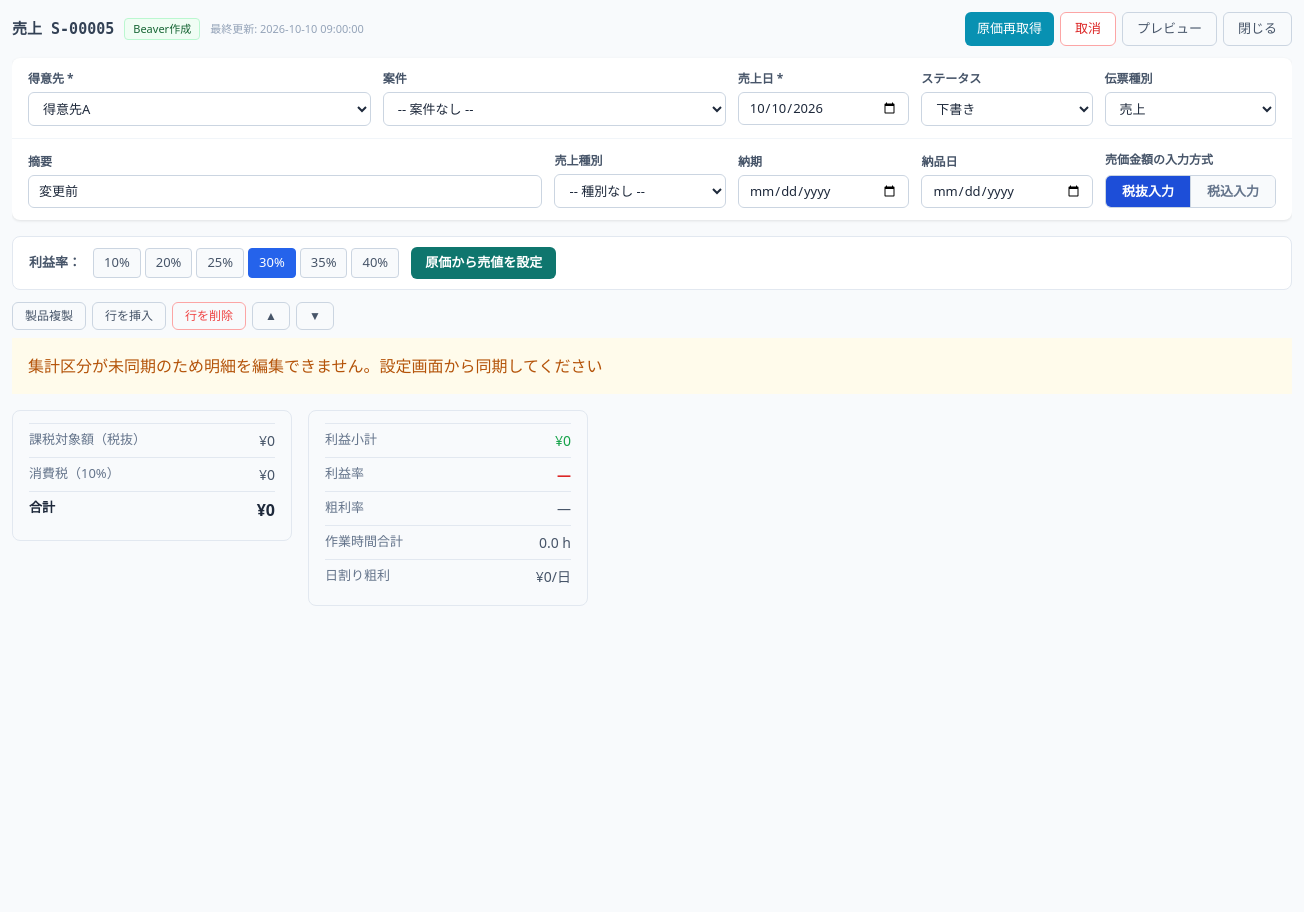
Test: R-0168 離脱前に保存結果を待つ › 離脱前保存が500なら保存失敗を表示し、確認も移動もしない
Expected: the date field showing "2026-10-10" below "売上日 *" is shown, [738,92,909,125]
Step 1. Replace the text in the field named "description" with "入力中の摘要" → (285, 191), box [28,174,542,208]
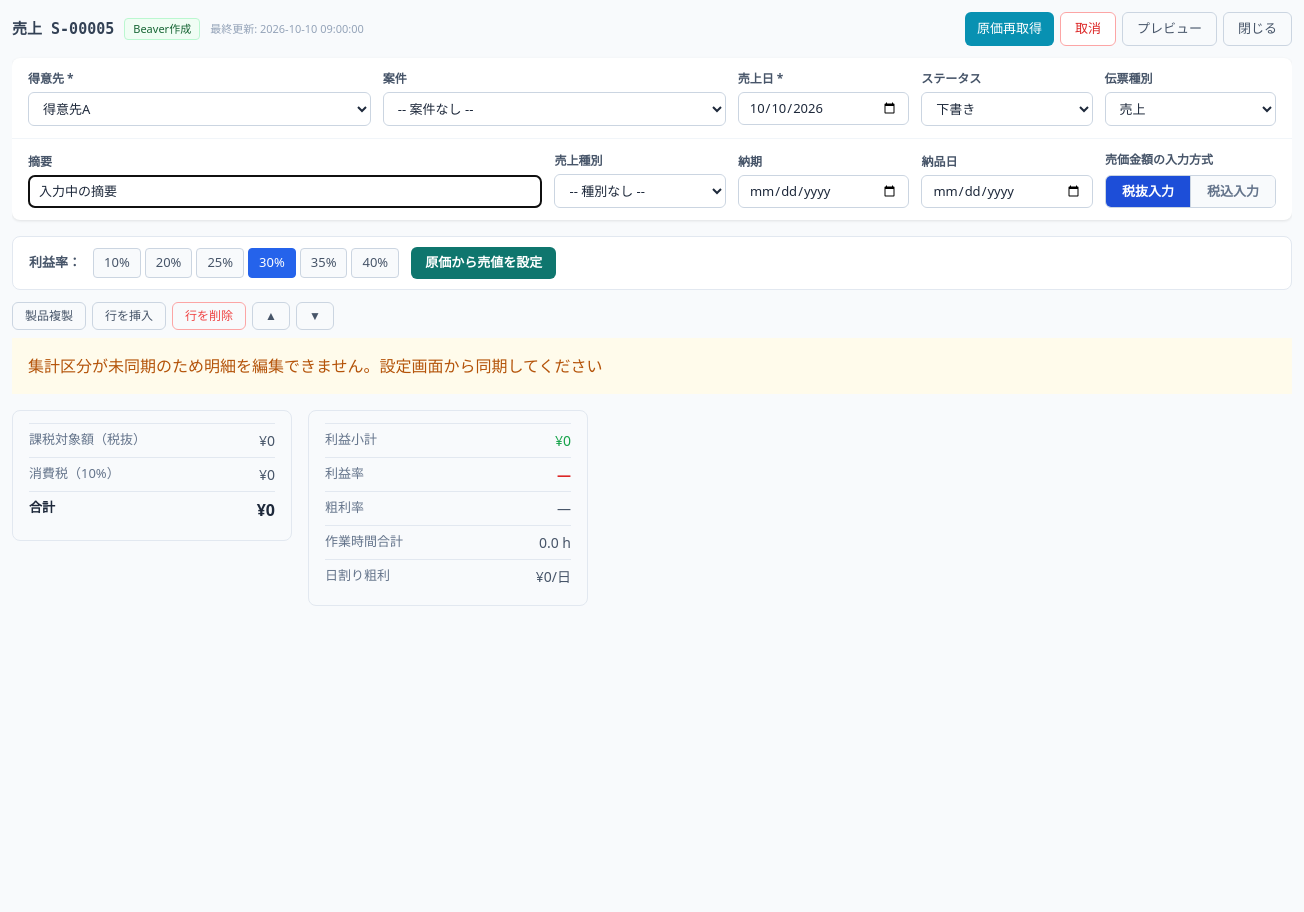
Step 2. Click the button "閉じる" → (1258, 29), box [1223,12,1292,46]
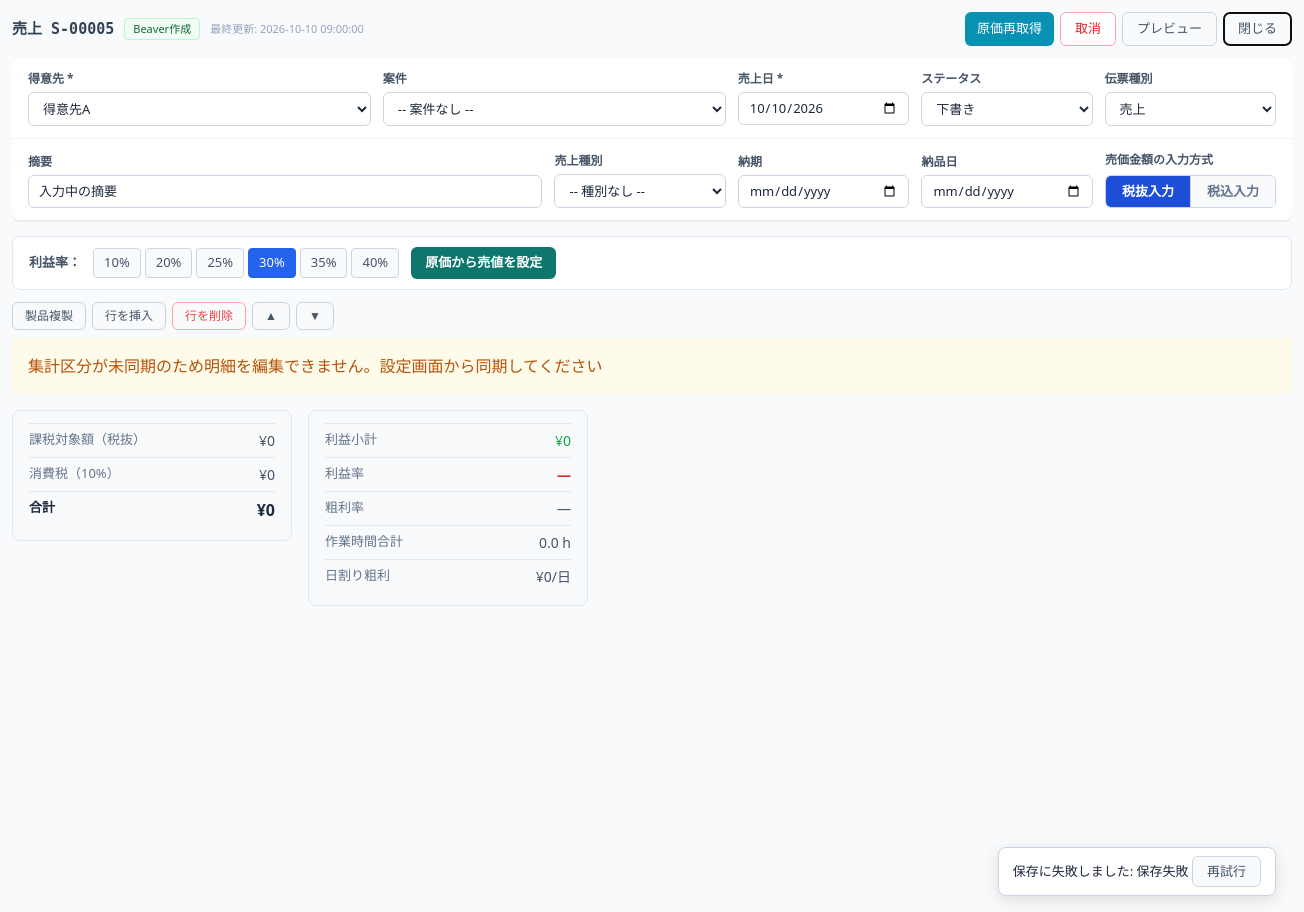
Now the text "保存に失敗しました: 保存失敗 再試行" is shown, box [1013,856,1261,887]
